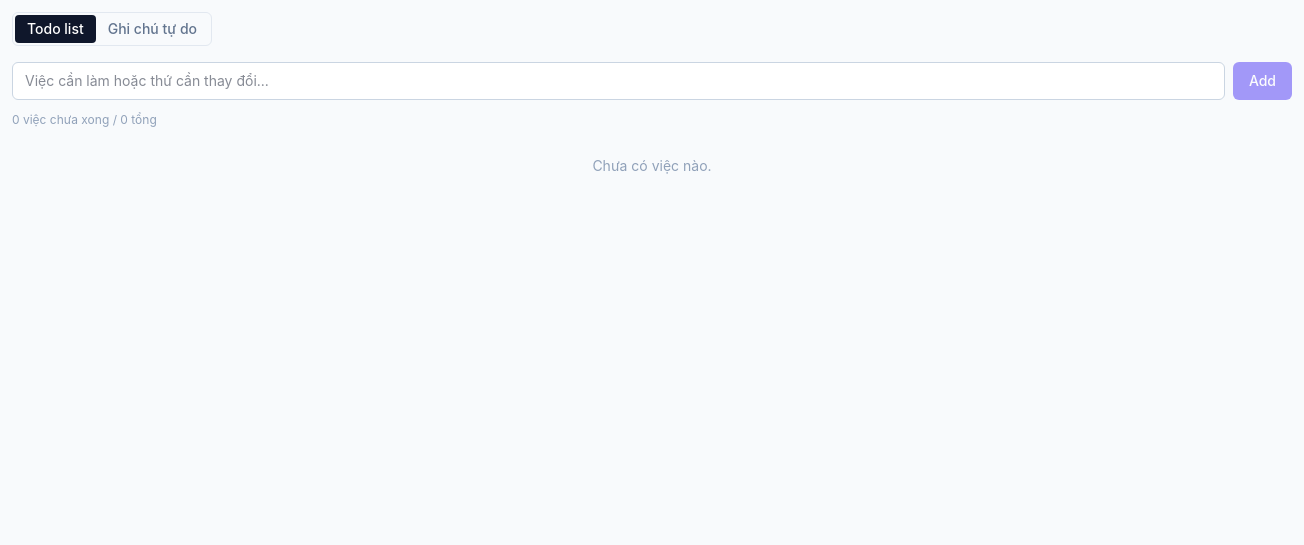
Test case: NotesTool saved notes › deletes a note from the list
Click the button "Ghi chú tự do".
click(152, 29)  # box x1=96 y1=15 x2=209 y2=43
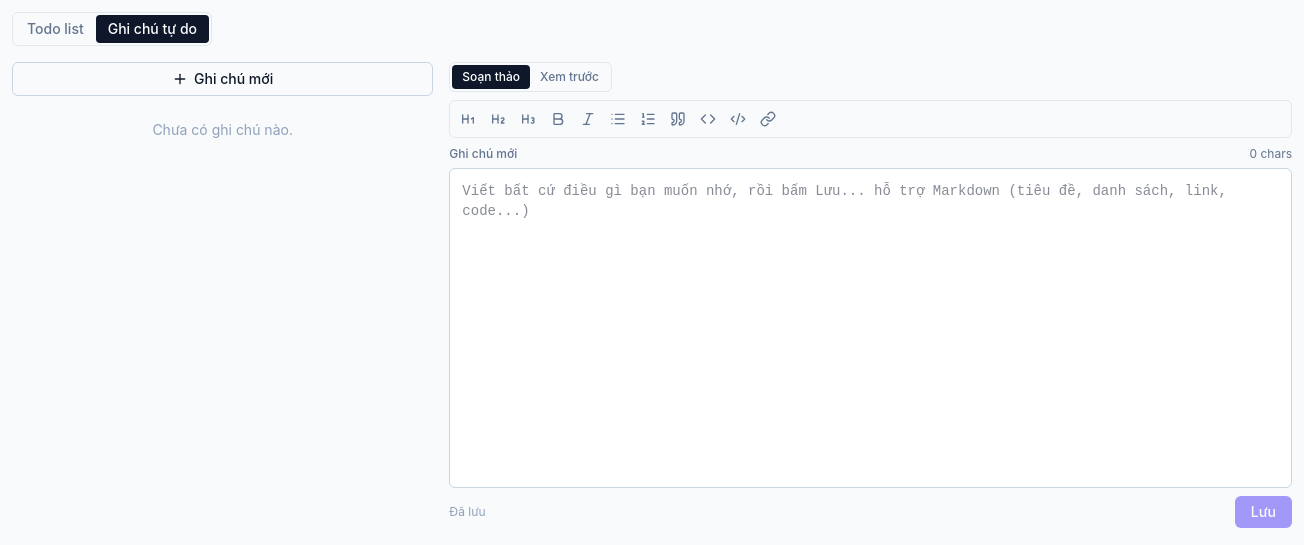
Replace the text in the text box with placeholder "Viết bất cứ điều gì bạn muốn nhớ, rồi bấm Lưu... hỗ trợ Markdown (tiêu đề, danh sách, link, code...)" with "To be deleted" at (871, 328), box x1=449 y1=168 x2=1292 y2=488
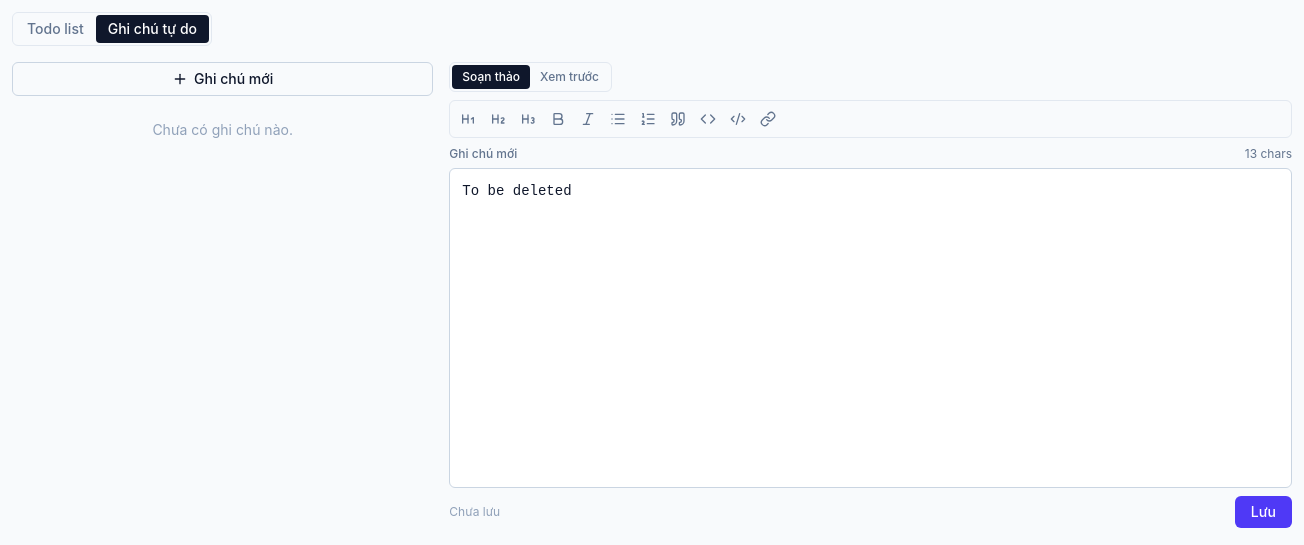
Click the button "Lưu".
click(1263, 512)  # box x1=1235 y1=496 x2=1292 y2=528
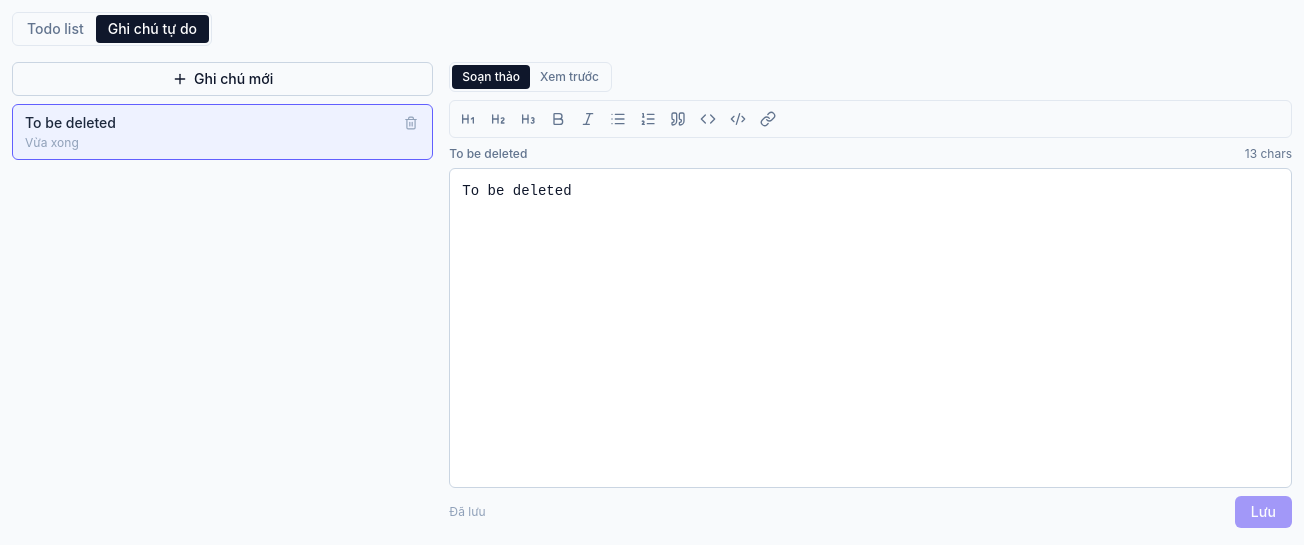
Expected: the text "To be deleted" is shown once, x1=25 y1=114 x2=116 y2=131
Click the button named "Xoá ghi chú".
click(411, 123)  # box x1=402 y1=114 x2=420 y2=132
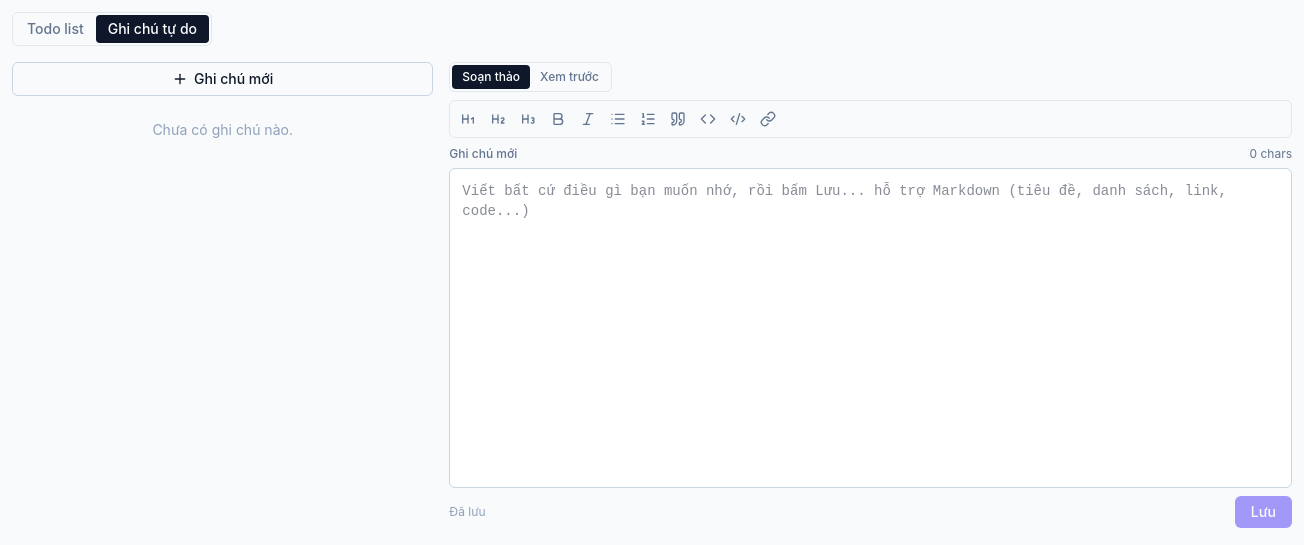
Expected: no list items are shown
